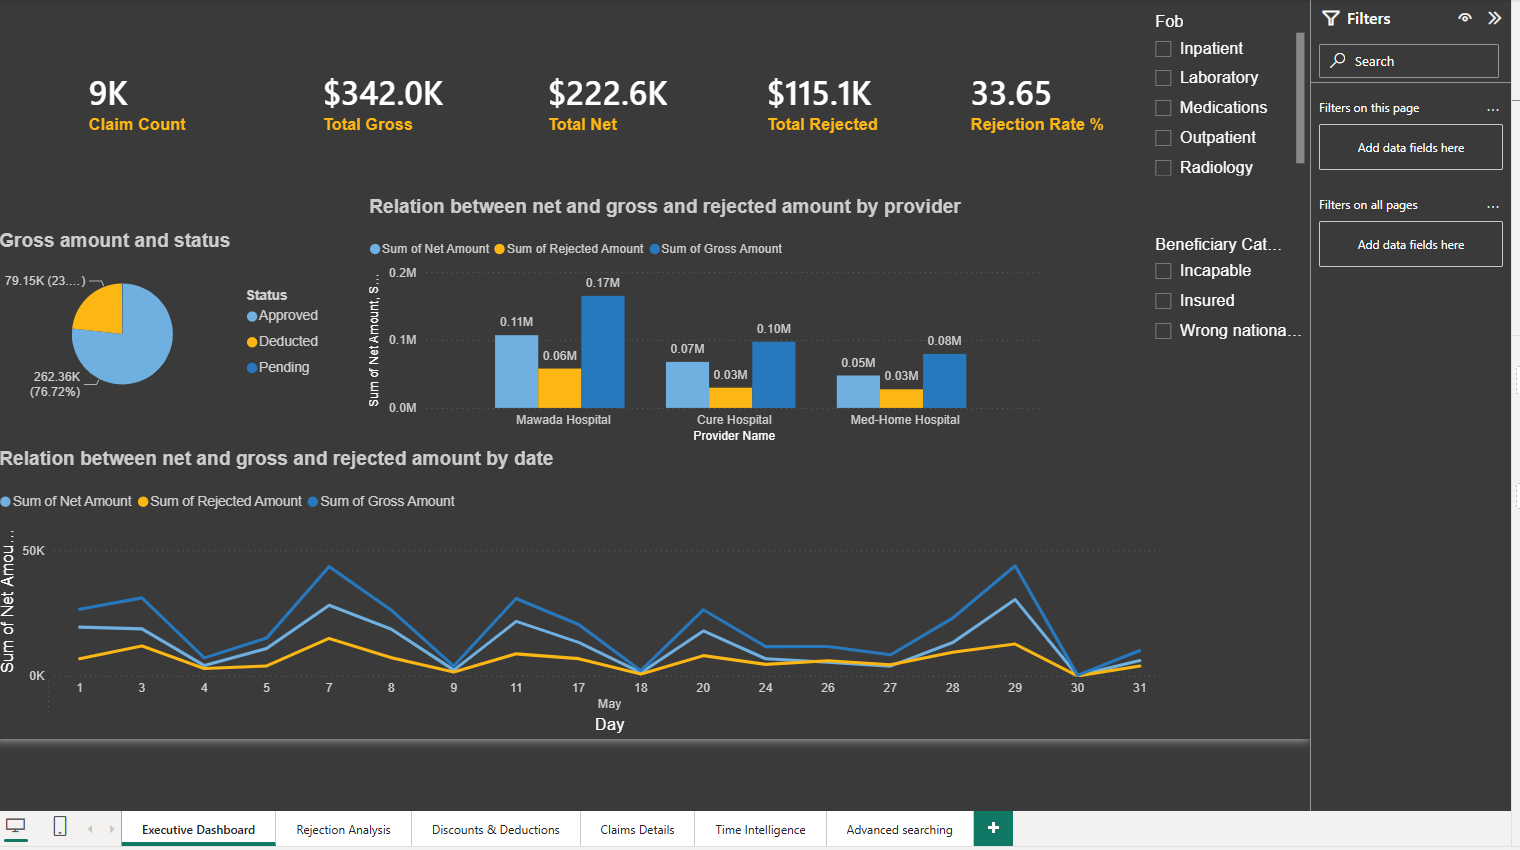

This screenshot's page, from the dashboard's own definition file:
{"tool":"powerbi","page":{"name":"Executive Dashboard","canvas":[1280,720],"ordinal":0},"visuals":[{"type":"cardVisual","fields":{"Data":["claims.Rejection Rate %"]},"box":[920.1,20.4,196.5,156.6],"z":0},{"type":"cardVisual","fields":{"Data":["claims.Total Gross"]},"box":[289.8,20.4,204.3,156.6],"z":1000},{"type":"cardVisual","fields":{"Data":["claims.Total Net"]},"box":[508.7,20.4,197.4,156.6],"z":2000},{"type":"cardVisual","fields":{"Data":["claims.Total Rejected"]},"box":[721.7,20.4,186.7,156.6],"z":3000},{"type":"pieChart","title":"Gross amount and status","fields":{"Category":["claims.Status"],"Y":["Sum(claims.Gross Amount)"]},"box":[0,224.7,329.7,170.2],"z":4000},{"type":"clusteredColumnChart","title":"Relation between net and gross and rejected amount by provider","fields":{"Category":["claims.Provider Name"],"Y":["Sum(claims.Net Amount)","Sum(claims.Rejected Amount)","Sum(claims.Gross Amount)"]},"box":[359.9,191.6,664.3,245.1],"z":5000},{"type":"lineChart","title":"Relation between net and gross and rejected amount by date","fields":{"Y":["Sum(claims.Net Amount)","Sum(claims.Rejected Amount)","Sum(claims.Gross Amount)"],"Category":["claims.Service Date.Variation.Date Hierarchy.Month","claims.Service Date.Variation.Date Hierarchy.Day"]},"box":[0,436.7,1143.8,283],"z":6000},{"type":"slicer","fields":{"Values":["claims.Fob"]},"box":[1116.6,7.8,163.4,169.2],"z":7000},{"type":"slicer","fields":{"Values":["claims.Beneficiary Category"]},"box":[1116.6,224.7,163.4,118.7],"z":8000},{"type":"actionButton","box":[0,0,100,40],"z":9000},{"type":"cardVisual","fields":{"Data":["claims.Claim Count"]},"box":[62.2,20.4,206.2,156.6],"z":10000}]}

Visuals, with their boxes on the page's 1280x720 design canvas (x1, y1, x2, y2). These are canvas units, not pixel positions in the 1520x850 screenshot, which may show the page scaled, cropped or inside an application window:
cardVisual - claims.Rejection Rate %: (920,20,1117,177)
cardVisual - claims.Total Gross: (290,20,494,177)
cardVisual - claims.Total Net: (509,20,706,177)
cardVisual - claims.Total Rejected: (722,20,908,177)
"Gross amount and status" pieChart: (0,225,330,395)
"Relation between net and gross and rejected amount by provider" clusteredColumnChart: (360,192,1024,437)
"Relation between net and gross and rejected amount by date" lineChart: (0,437,1144,720)
slicer - claims.Fob: (1117,8,1280,177)
slicer - claims.Beneficiary Category: (1117,225,1280,343)
actionButton: (0,0,100,40)
cardVisual - claims.Claim Count: (62,20,268,177)
